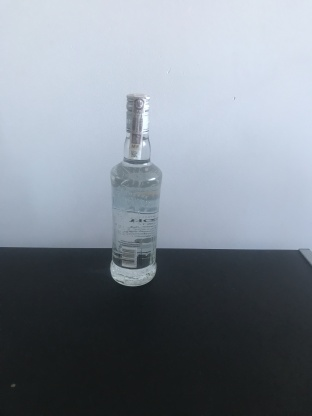nakretka: (123, 87, 152, 136)
